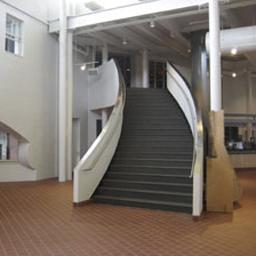Escaleras: (77, 59, 202, 212)
